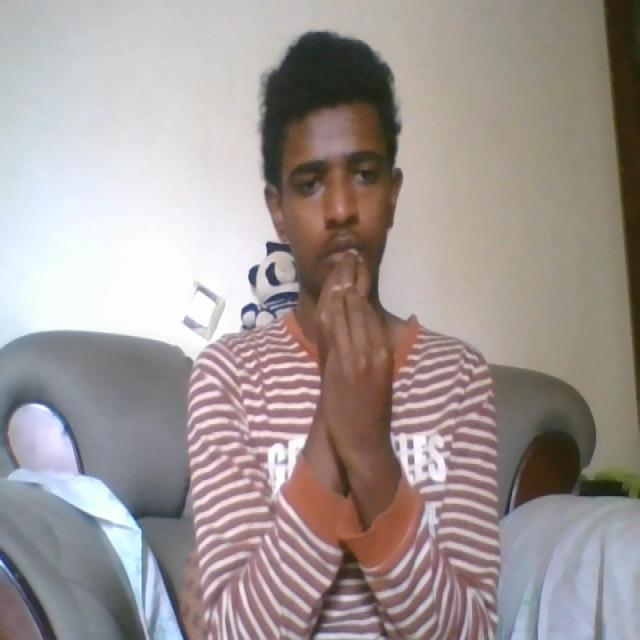migb: (311, 238, 396, 471)
